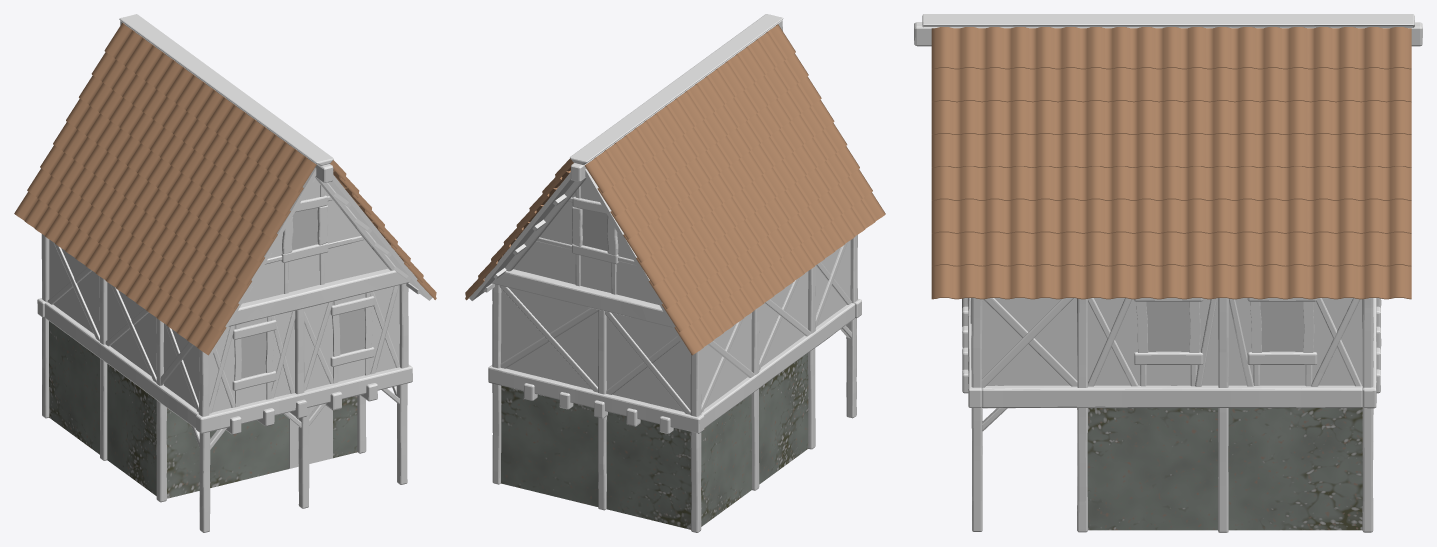
Rendered from Casa_Doorv2.fbx.
The picture shows the model from 3 angles, left to right: view 1: azimuth 30°, elevation 25°; view 2: azimuth 150°, elevation 25°; view 3: azimuth 270°, elevation 25°; orthographic projection. The views are drawn at different scales.
Parts seen in each view (by area): view 1: Roof, Wooden Carcass, Walls, Cobblestone Foundation, WindowFrames, GlassPanes, Cube; view 2: Roof, Wooden Carcass, Cobblestone Foundation, Walls, WindowFrames, GlassPanes; view 3: Roof, Wooden Carcass, Cobblestone Foundation, Walls, WindowFrames, GlassPanes.
Part boxes in pixels (x1,y1,x2,y2): Roof: (14, 23, 436, 355); Wooden Carcass: (37, 14, 421, 532); Walls: (49, 167, 432, 412); Cobblestone Foundation: (49, 321, 357, 498); WindowFrames: (232, 195, 374, 390); GlassPanes: (241, 208, 365, 378); Cube: (289, 405, 332, 468); Roof: (465, 24, 885, 355); Wooden Carcass: (483, 14, 861, 532); Cobblestone Foundation: (501, 353, 808, 529); Walls: (469, 169, 850, 411); WindowFrames: (572, 196, 618, 264); GlassPanes: (582, 209, 607, 251); Roof: (931, 27, 1411, 299); Wooden Carcass: (914, 14, 1422, 532); Cobblestone Foundation: (1087, 407, 1362, 530); Walls: (982, 298, 1362, 385); WindowFrames: (1134, 298, 1317, 364); GlassPanes: (1146, 301, 1303, 351).
Size of the model in its own units: 482 by 708 by 722.
